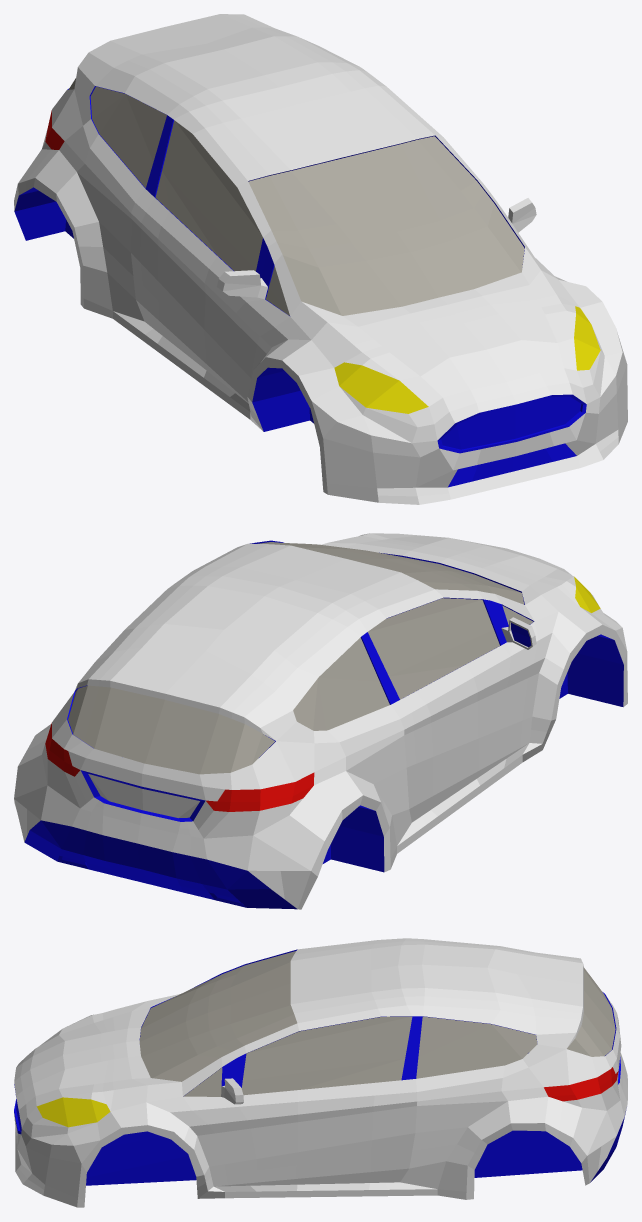
Rendered from Ralli JR.fbx.
The picture shows the model from 3 angles, top to bottom: view 1: azimuth 30°, elevation 25°; view 2: azimuth 150°, elevation 25°; view 3: azimuth 270°, elevation 25°; orthographic projection. The views are drawn at different scales.
Parts seen in each view (by area): view 1: RalliJr; view 2: RalliJr; view 3: RalliJr.
Boxes of the visible parts, left/top/right/bottom form: RalliJr: left=14, top=14, right=627, bottom=504; RalliJr: left=14, top=533, right=627, bottom=909; RalliJr: left=14, top=938, right=627, bottom=1207.
Bounding box in the file's own units: 1.96 × 4.07 × 1.34.
